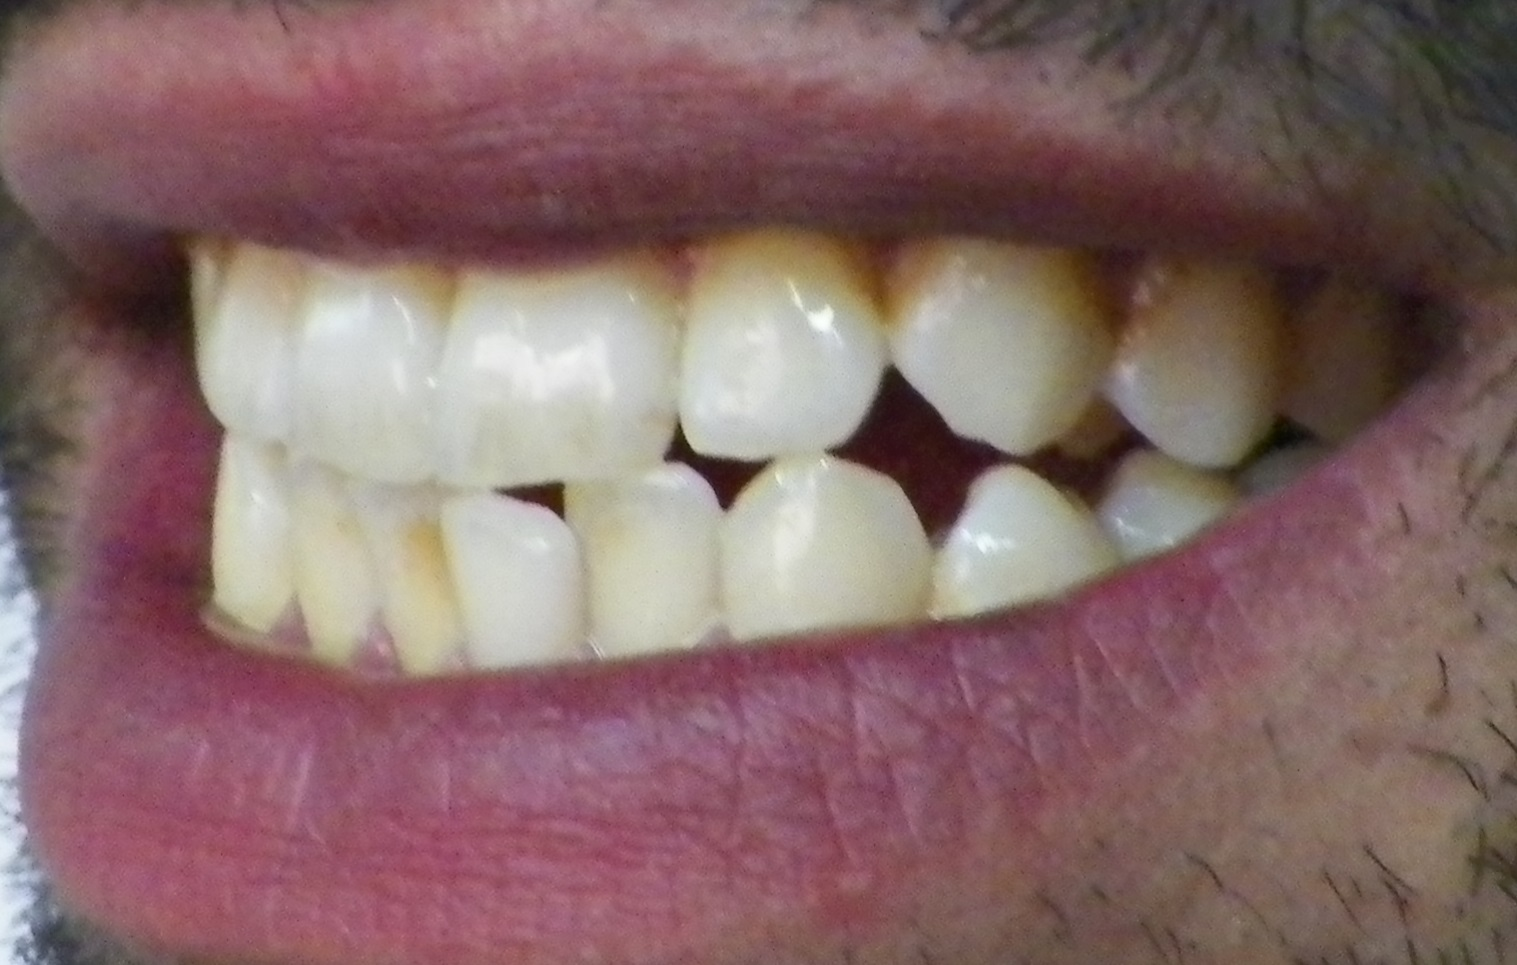boca: (177, 253, 1385, 655)
